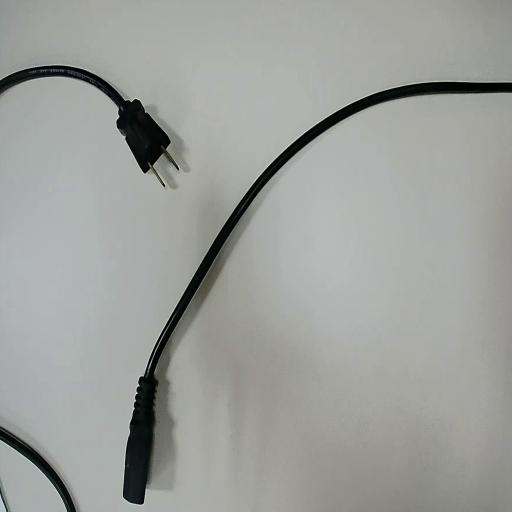wire: (124, 83, 511, 502), (0, 66, 172, 171)
